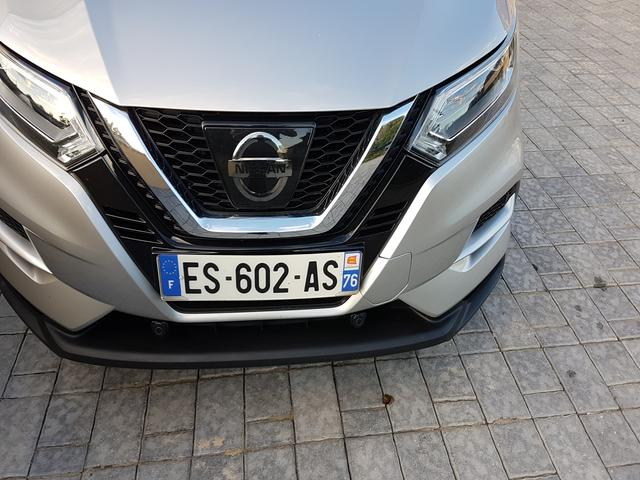Quashquai: (135, 218, 404, 326)
